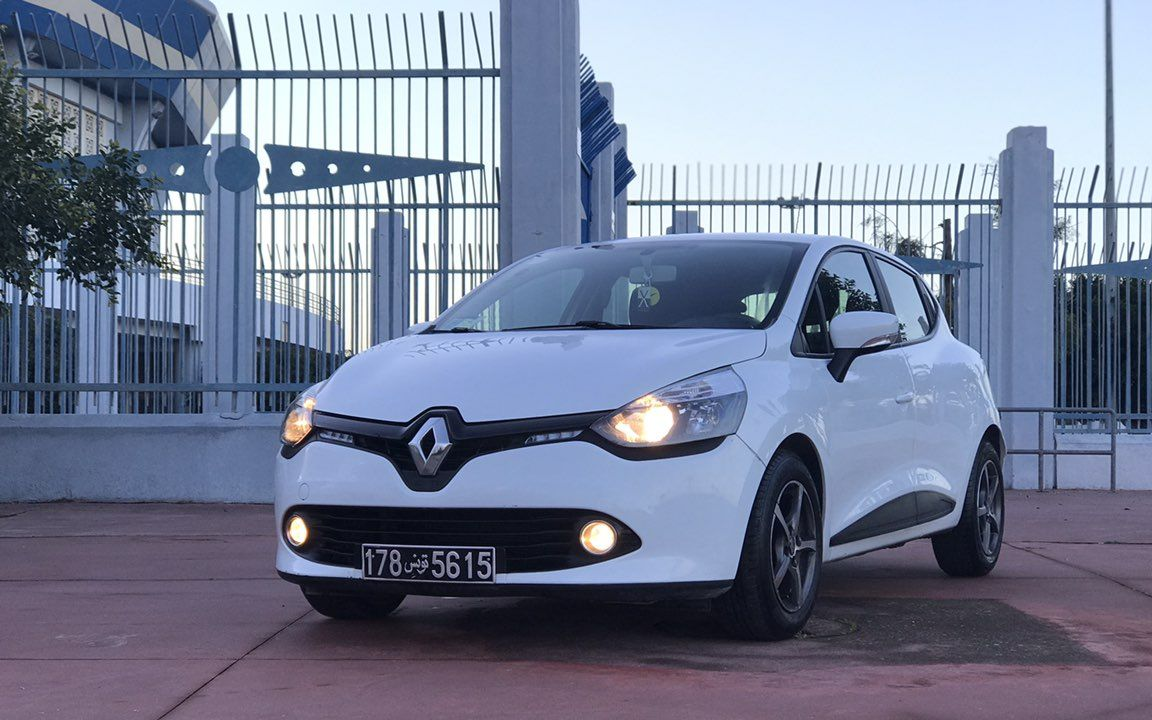LP: (360, 540, 497, 585)
